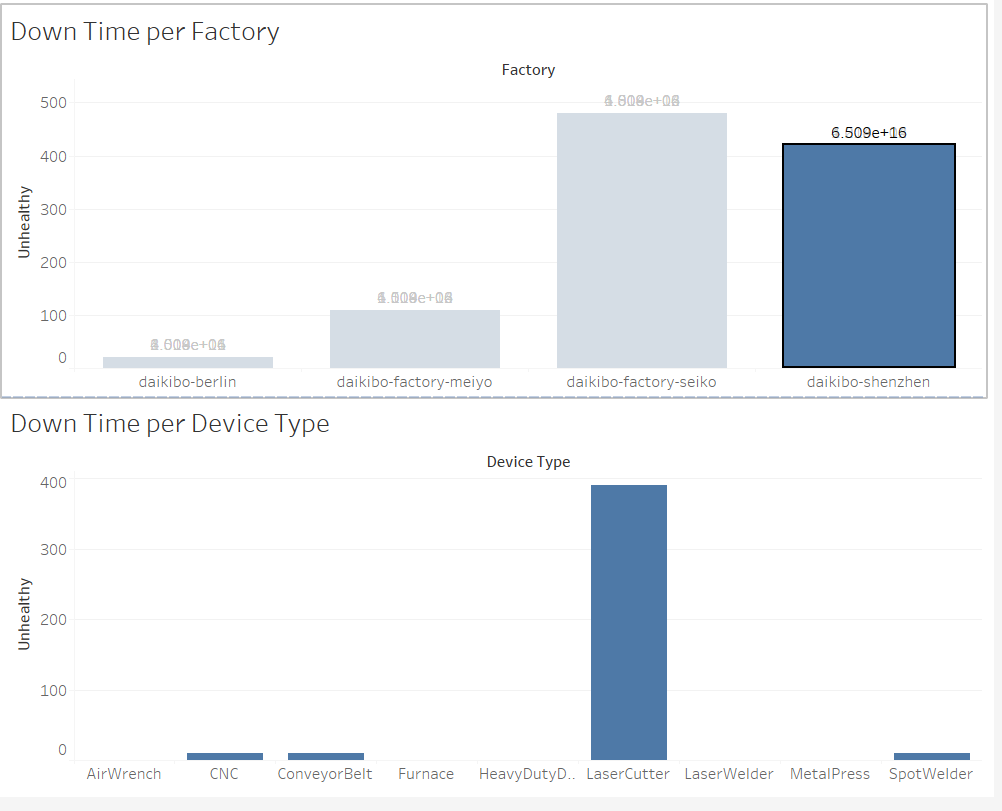

What the dashboard file says about the page in this screenshot:
{"tool":"tableau","page":{"name":"Dashboard 1","canvas":[1000,800],"ordinal":0},"visuals":[{"type":"worksheet","title":"Down Time per Factory","mark":"Automatic","rows":["Calculation_346495717455716352"],"cols":["factory"],"box":[8,8,984,392]},{"type":"worksheet","title":"Down Time per Device Type","mark":"Automatic","rows":["Calculation_346495717455716352"],"cols":["deviceType"],"box":[8,400,984,392]}]}

Visuals, with their boxes in screenshot pixels (x1, y1, x2, y2), scaled from the page's 1000x800 canvas onto the 1002x811 screenshot:
"Down Time per Factory" worksheet: BBox(8, 8, 994, 406)
"Down Time per Device Type" worksheet: BBox(8, 406, 994, 803)
